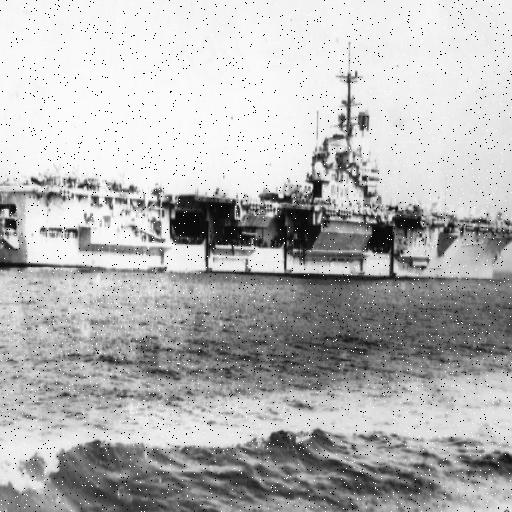Portanaves: (1, 40, 512, 269)
